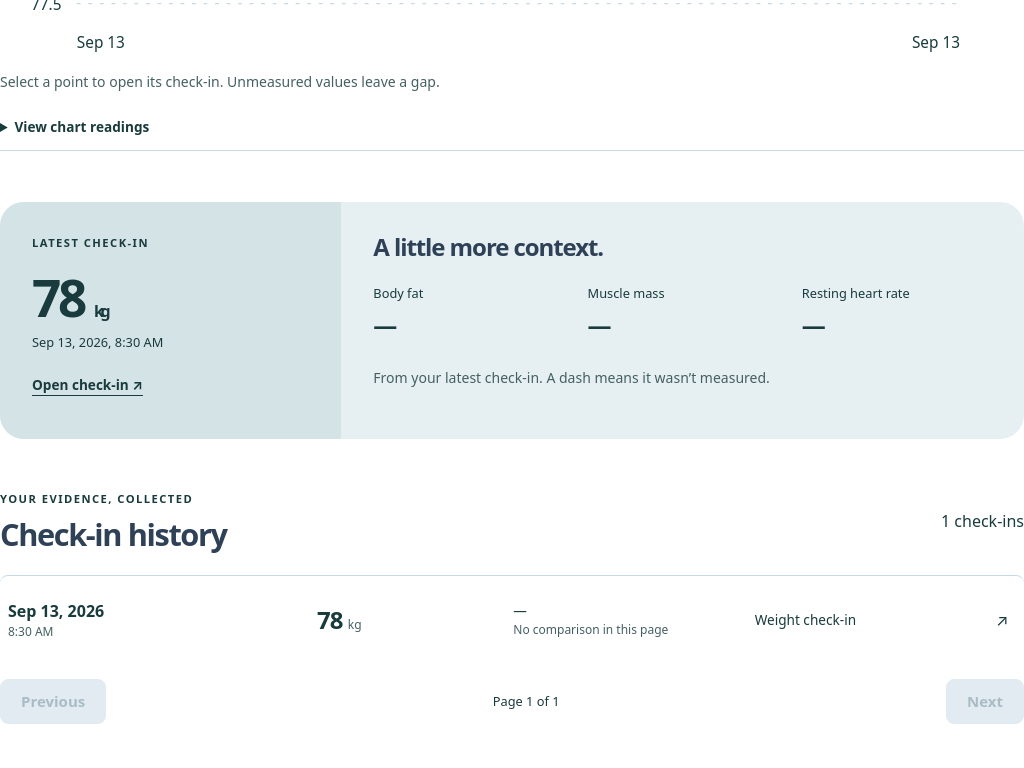
progress experience › uses the detail endpoint with no edit/delete actions
The image size is (1024, 768).
(page scrolled)
Click the button "Open check-in ↗" at (87, 385), box [32,363,143,407]
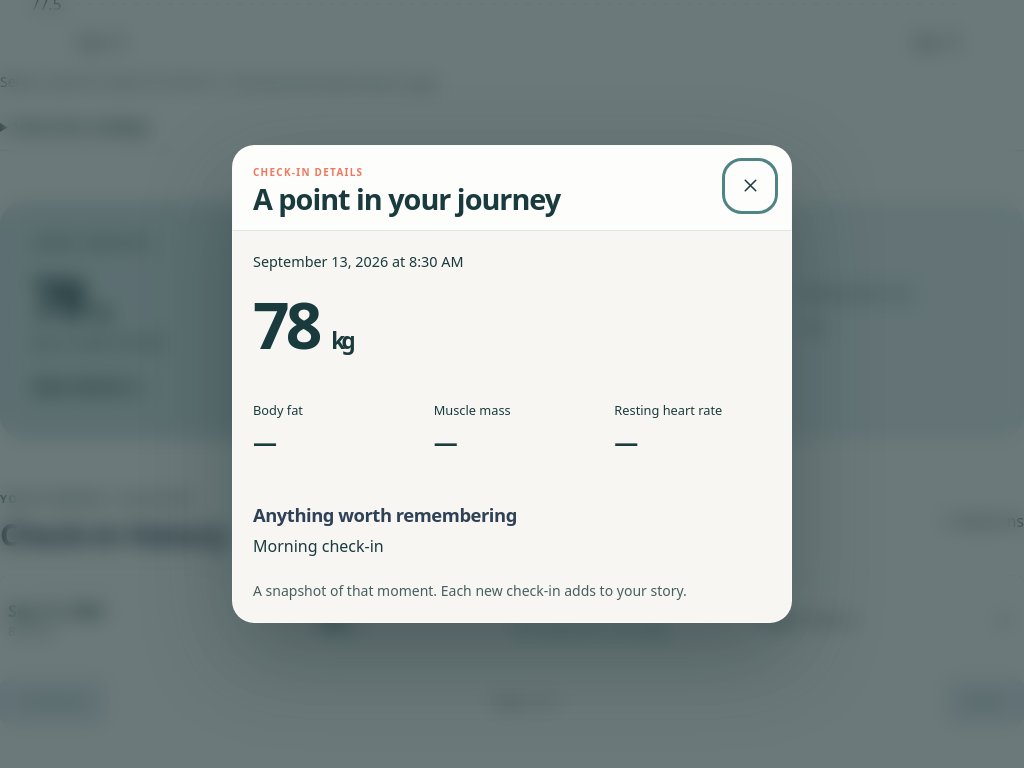
Expected: the text "Morning check-in" is shown, [253,535,384,557]
